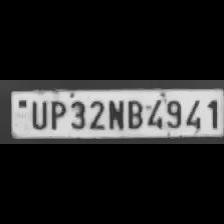1: (203, 97, 221, 130)
2: (86, 97, 106, 130)
3: (66, 97, 86, 130)
4: (183, 97, 203, 129), (144, 97, 162, 129)
9: (162, 97, 182, 129)
B: (124, 97, 144, 130)
N: (105, 97, 124, 130)
P: (46, 98, 66, 130)
U: (27, 98, 47, 130)
